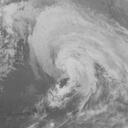cyclone: (31, 1, 125, 105)
